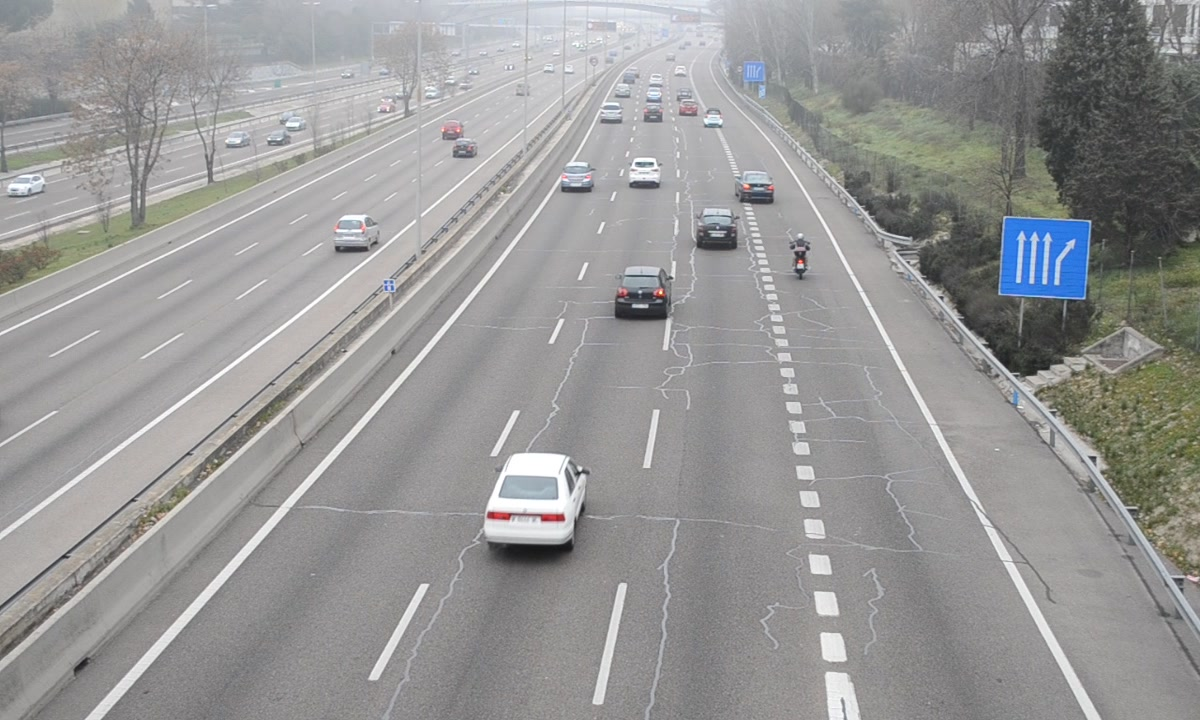car: (482, 454, 588, 545), (615, 267, 671, 319), (695, 209, 739, 250), (737, 171, 775, 202), (560, 161, 595, 192), (628, 158, 663, 186), (600, 101, 623, 126)
motorcycle: (790, 232, 812, 284)
